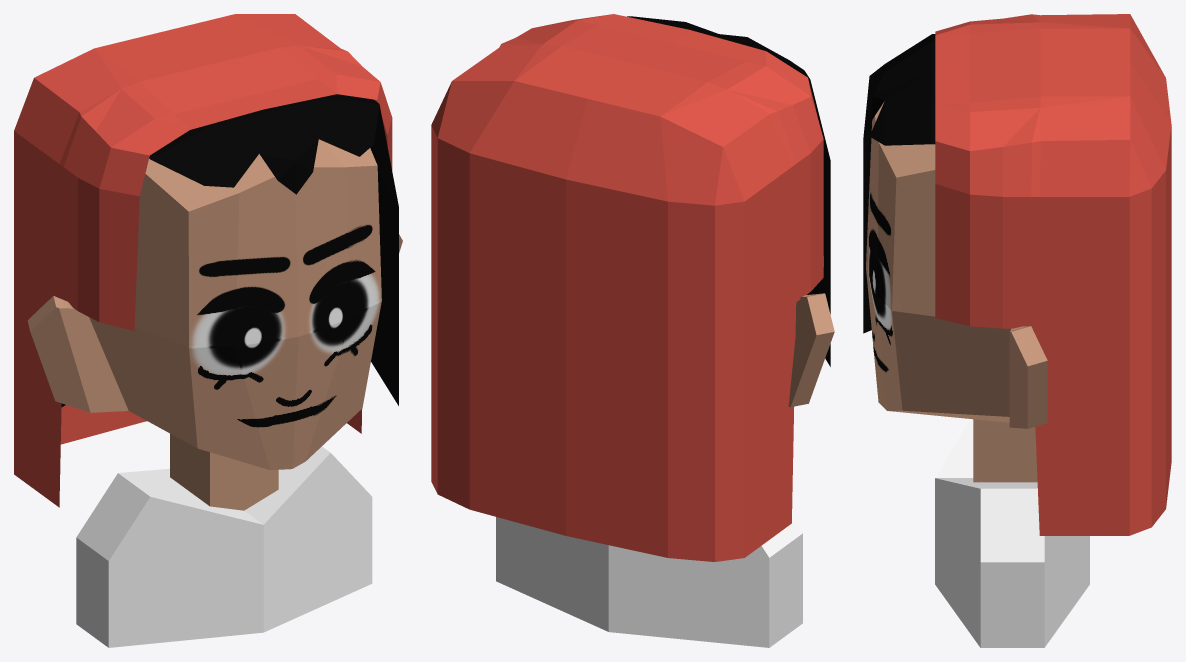
File: chalupa.glb
3 renders of one model, left to right at view 1: azimuth 30°, elevation 25°; view 2: azimuth 150°, elevation 25°; view 3: azimuth 270°, elevation 25°, orthographic. The views are drawn at different scales.
Visible parts, largest first — view 1: Plane, Plane.002, Plane.004, Plane.003, Plane.001; view 2: Plane.002, Plane.004, Plane, Plane.003; view 3: Plane.002, Plane, Plane.004, Plane.003, Plane.001.
Boxes of the visible parts, x1,y1,x2,y2 form: Plane: (27, 139, 402, 470); Plane.002: (14, 14, 392, 507); Plane.004: (76, 446, 372, 647); Plane.003: (61, 94, 398, 406); Plane.001: (170, 433, 278, 510); Plane.002: (431, 14, 823, 561); Plane.004: (496, 517, 802, 647); Plane: (788, 293, 834, 407); Plane.003: (627, 16, 830, 366); Plane.002: (935, 14, 1171, 535); Plane: (866, 101, 1047, 428); Plane.004: (935, 419, 1089, 647); Plane.003: (863, 34, 935, 333); Plane.001: (973, 419, 1037, 482).
Size of the model in its own units: 1.86 by 2.53 by 1.35.
Materials: 5 (1 with a texture image).
